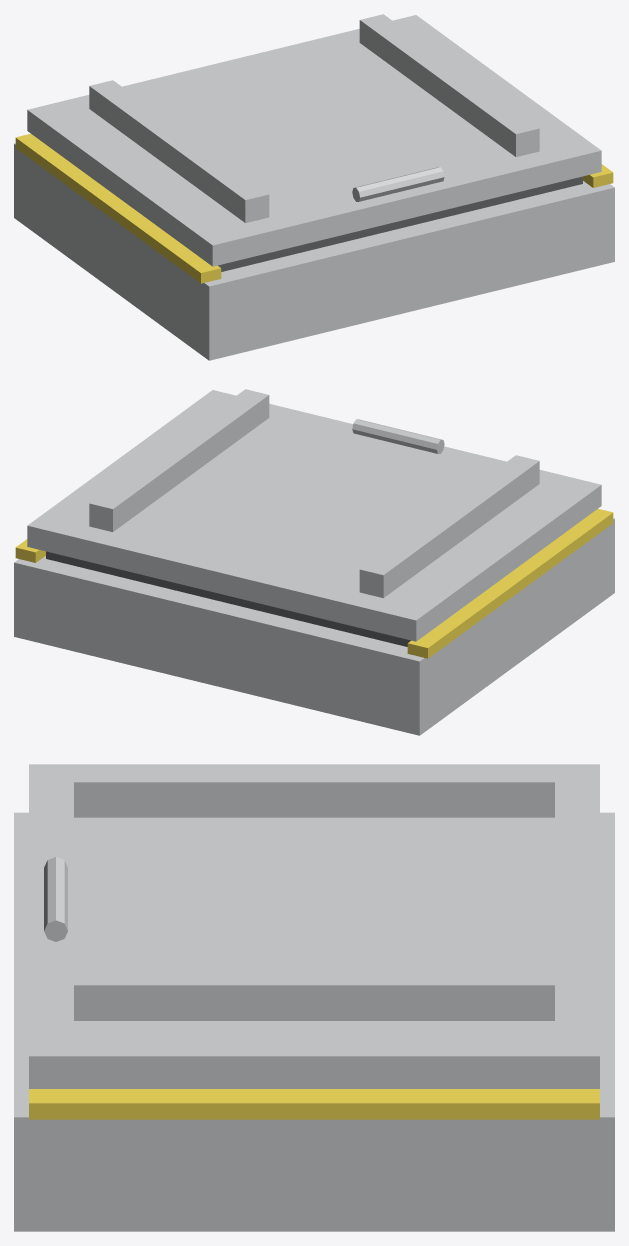
The model's file is fish-market-and-trawler-quay-fish-market-and-trawler-q-04a93012__37263.glb.
The picture shows the model from 3 angles, top to bottom: view 1: azimuth 30°, elevation 25°; view 2: azimuth 150°, elevation 25°; view 3: azimuth 270°, elevation 25°; orthographic projection. The views are drawn at different scales.
Visible parts, largest first — view 1: hold-hatch/steel (×4), fish-market-and-trawler-quay-fish-hold-hatch; view 2: hold-hatch/steel (×4), fish-market-and-trawler-quay-fish-hold-hatch; view 3: hold-hatch/steel (×4), fish-market-and-trawler-quay-fish-hold-hatch.
Part boxes in pixels (x1,y1,x2,y2): hold-hatch/steel (×4): (27,14,601,266); fish-market-and-trawler-quay-fish-hold-hatch: (14,133,614,360); hold-hatch/steel (×4): (27,389,601,641); fish-market-and-trawler-quay-fish-hold-hatch: (14,508,614,735); hold-hatch/steel (×4): (29,764,599,1088); fish-market-and-trawler-quay-fish-hold-hatch: (14,812,614,1231).
Bounding box in the file's own units: 2.44 × 0.7499 × 2.
